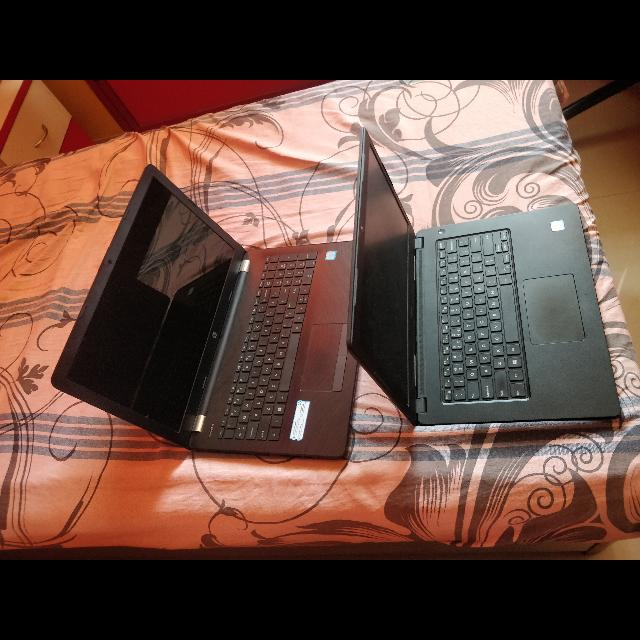Laptop: (41, 156, 365, 470), (340, 115, 636, 439)
